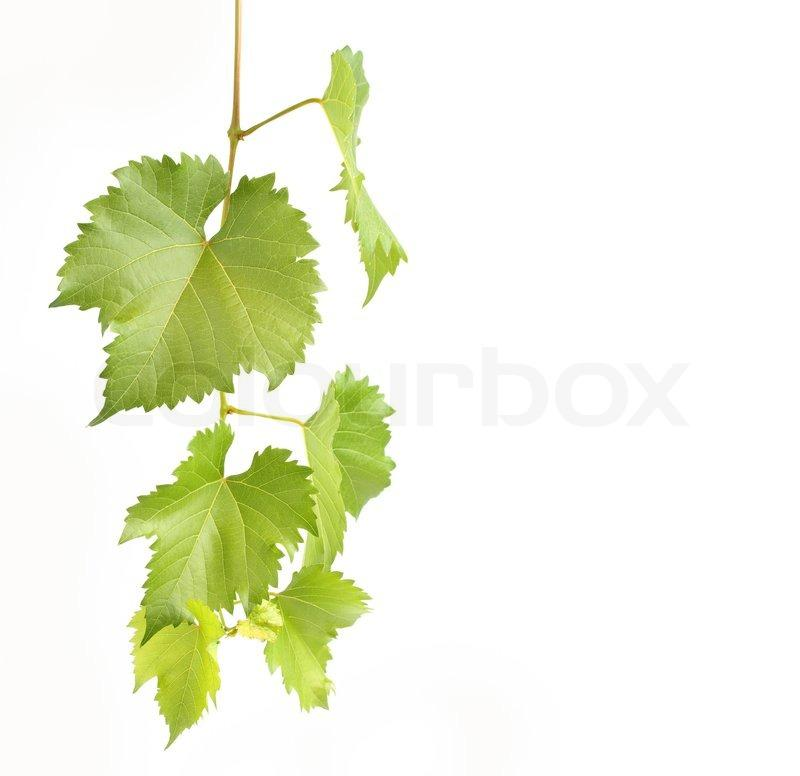grape leaf black rot: (25, 155, 332, 432), (112, 427, 320, 646), (322, 32, 429, 307), (289, 372, 409, 570), (255, 559, 376, 719), (101, 615, 233, 759)
